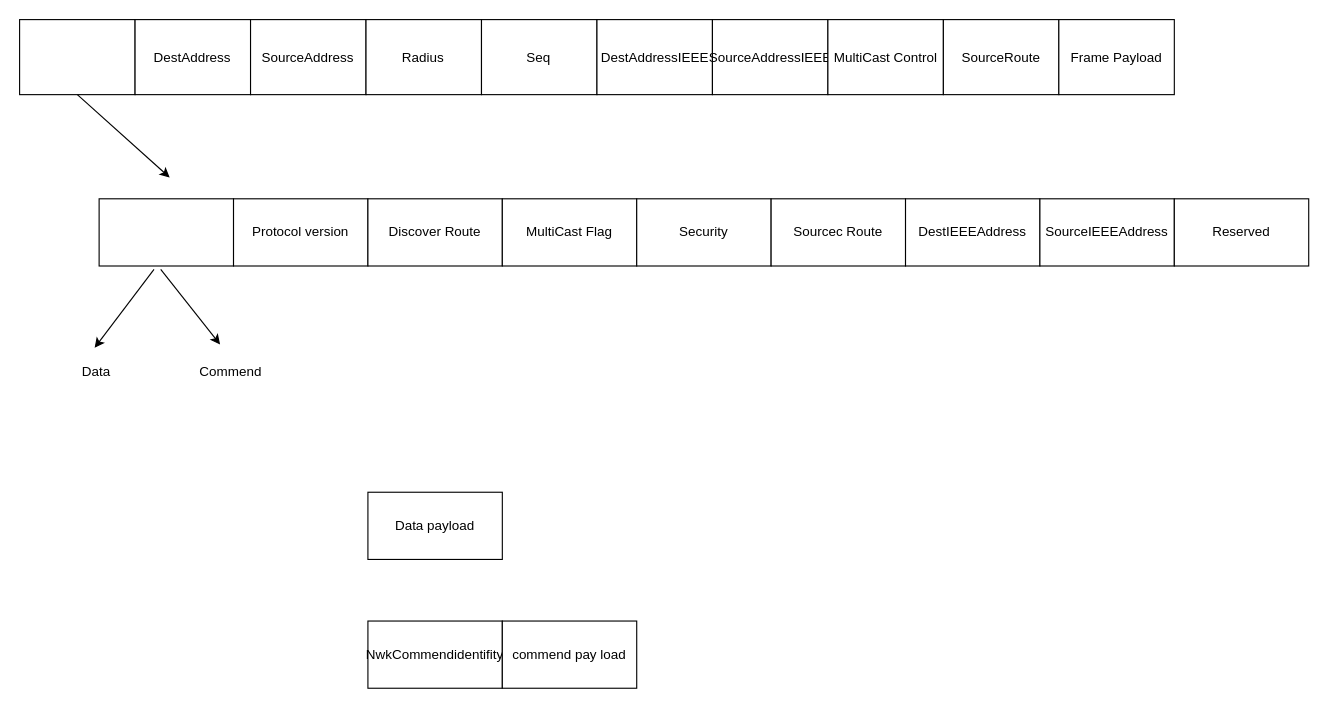
Some shapes in this 1328 by 708 pixel diagram are drawn without their labels. The box of each missing label's shape, as (x1, y1, x2, y2) in pixels:
Frame Contral: (18, 18, 135, 95)
FrameType: (98, 198, 234, 266)
